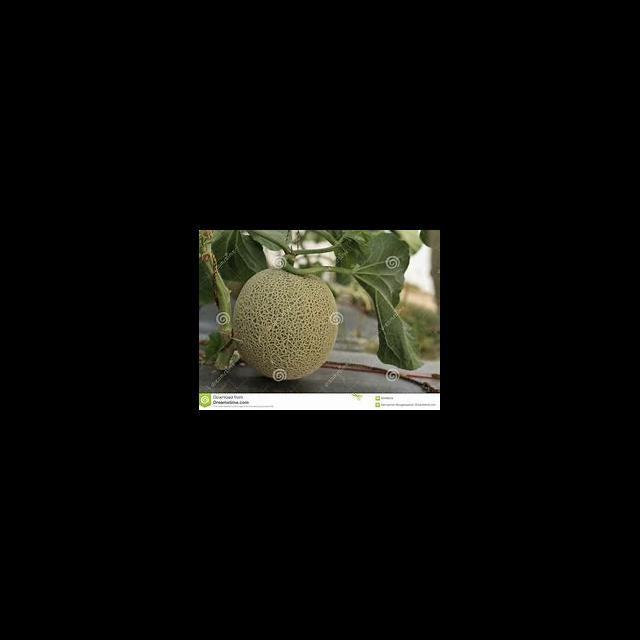Hami Melon: (232, 267, 339, 380)
